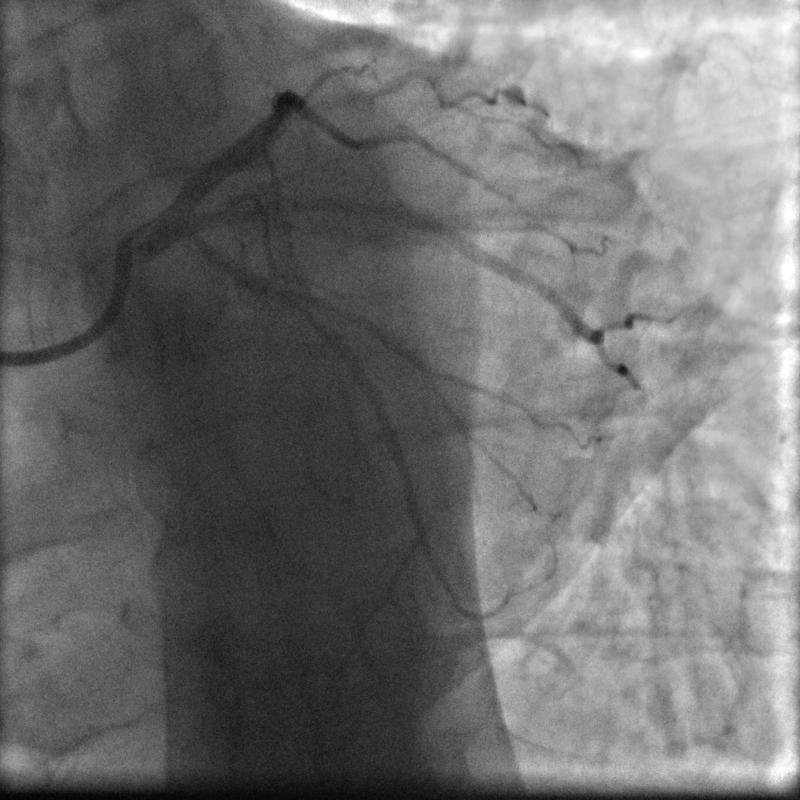Stenosis: (291, 83, 342, 119)
